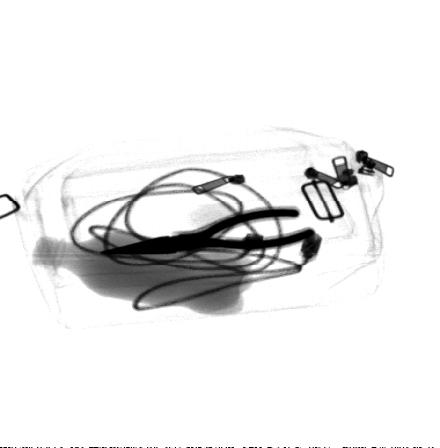Pliers: (96, 205, 318, 256)
